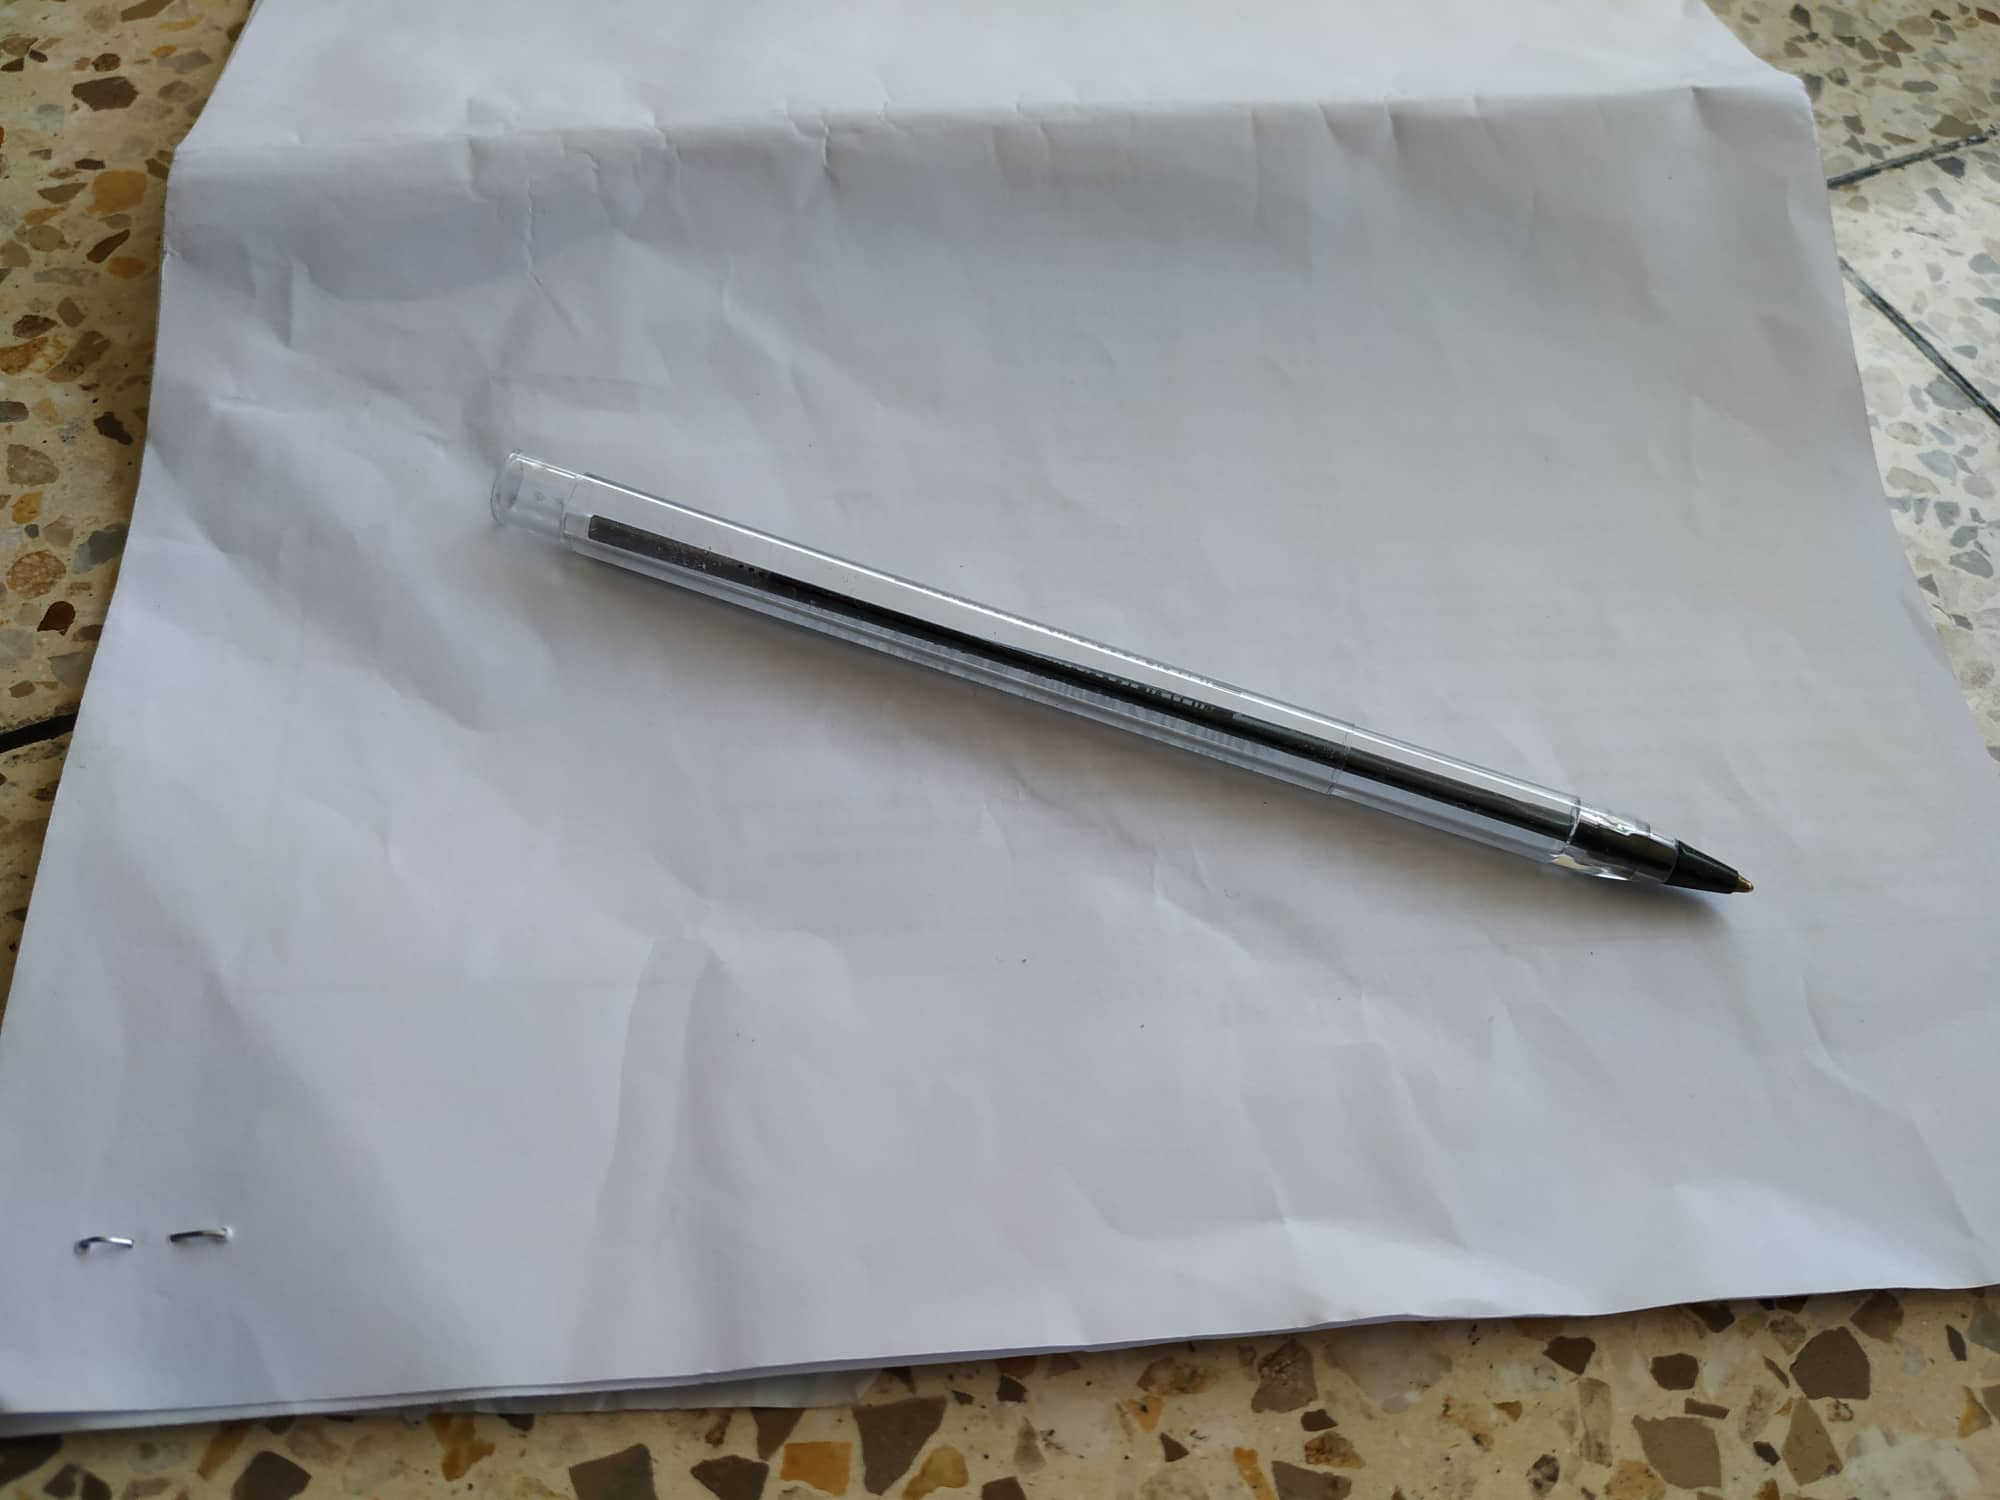qillqana: (461, 433, 1765, 898)
